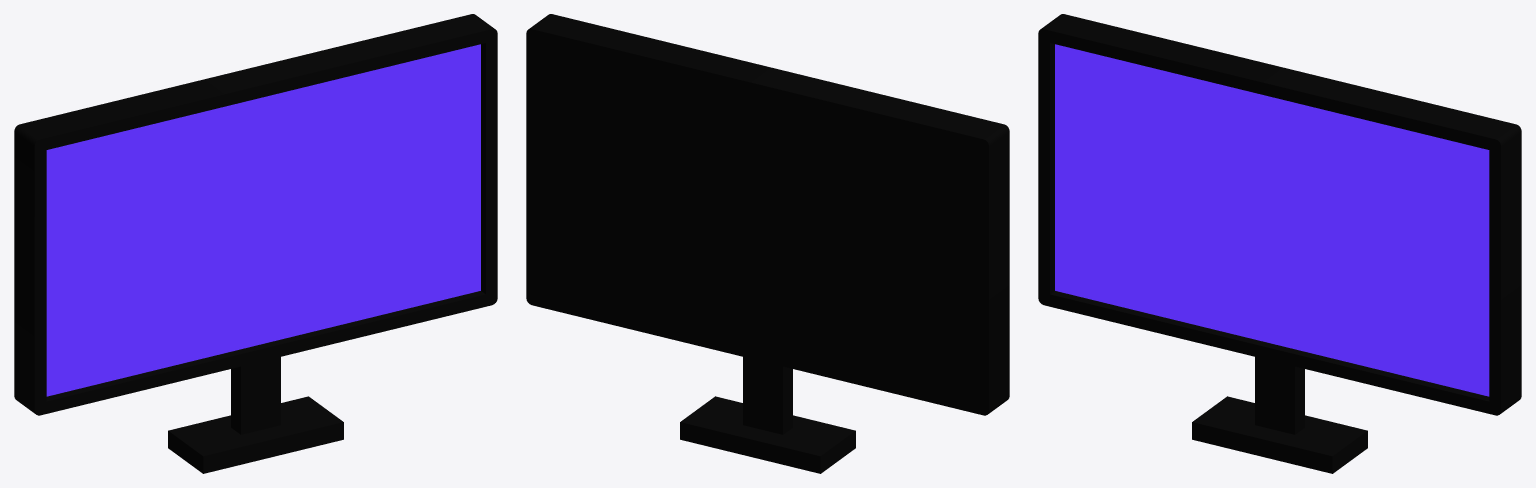
The model's file is computer.glb.
3 views of the same model, side by side, from view 1: azimuth 30°, elevation 25°; view 2: azimuth 150°, elevation 25°; view 3: azimuth 330°, elevation 25° (orthographic).
Visible parts, largest first — view 1: Cube.027; view 2: Cube.027; view 3: Cube.027.
Boxes of the visible parts, x1,y1,x2,y2 form: Cube.027: [14, 14, 497, 473]; Cube.027: [526, 14, 1009, 473]; Cube.027: [1038, 14, 1521, 473].
Bounding box in the file's own units: 0.488 × 0.37 × 0.0642.
